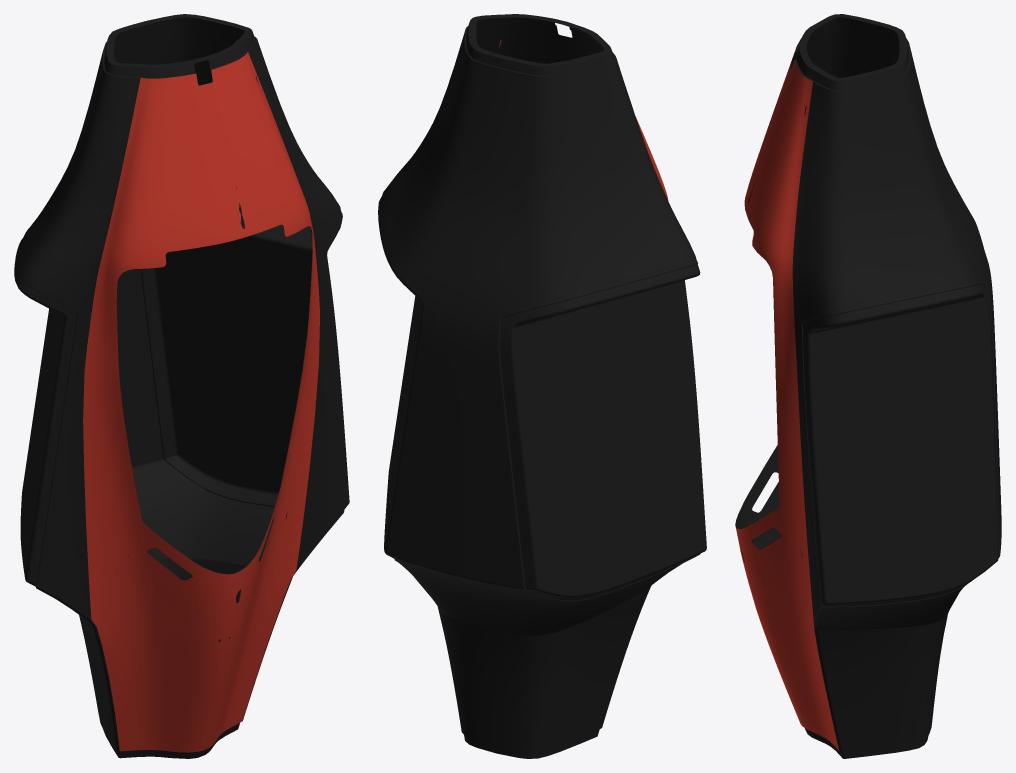
The model's file is Mono.obj.
3 renders of one model, left to right at view 1: azimuth 30°, elevation 25°; view 2: azimuth 150°, elevation 25°; view 3: azimuth 270°, elevation 25°, orthographic. The views are drawn at different scales.
Parts seen in each view (by area): view 1: Mono; view 2: Mono; view 3: Mono.
Boxes of the visible parts, x1,y1,x2,y2 form: Mono: (14, 14, 349, 758); Mono: (378, 14, 706, 758); Mono: (735, 14, 1001, 758).
Bounding box in the file's own units: 984 × 2032 × 718.
